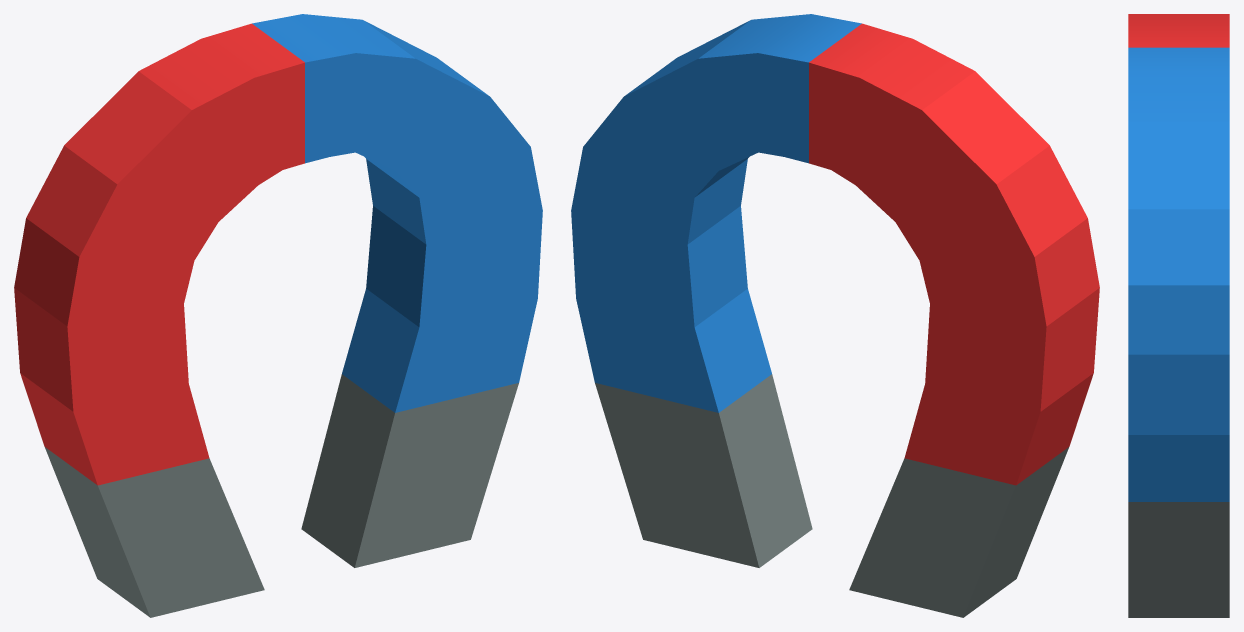
Rendered from Magnet.fbx.
The picture shows the model from 3 angles, left to right: view 1: azimuth 30°, elevation 25°; view 2: azimuth 150°, elevation 25°; view 3: azimuth 270°, elevation 25°; orthographic projection. The views are drawn at different scales.
Parts seen in each view (by area): view 1: pCube1; view 2: pCube1; view 3: pCube1.
Boxes of the visible parts, x1,y1,x2,y2 form: pCube1: (14, 14, 542, 617); pCube1: (571, 14, 1099, 617); pCube1: (1128, 14, 1229, 617).
Size of the model in its own units: 1.92 by 2 by 0.3738.
